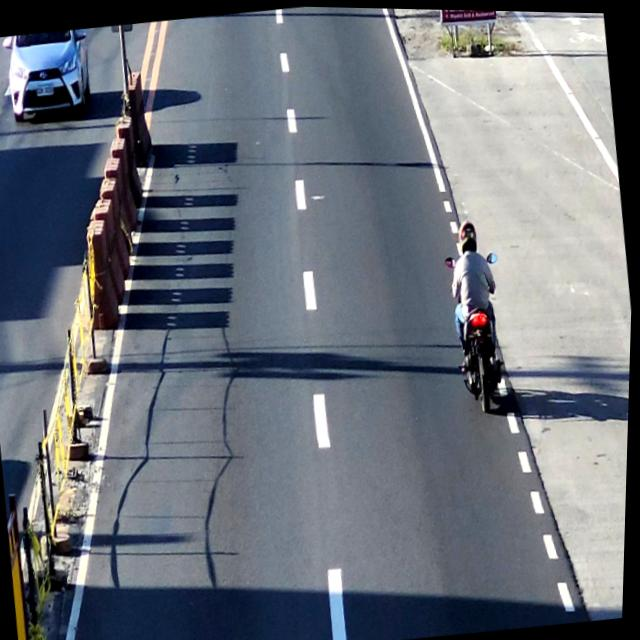Motorcycle: (442, 208, 520, 429)
